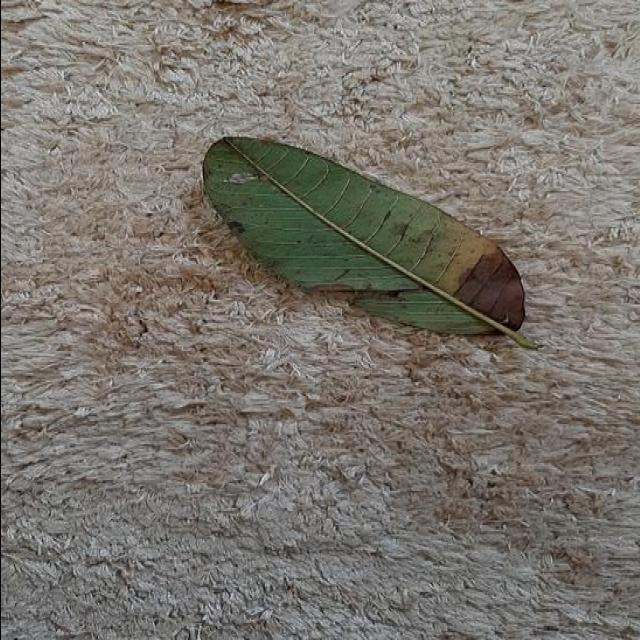leaf: (201, 133, 535, 346)
